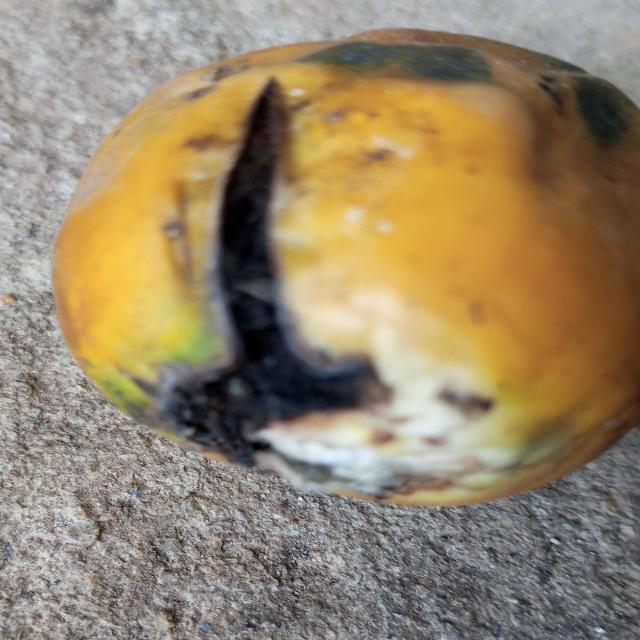damaged: (53, 30, 640, 505)
